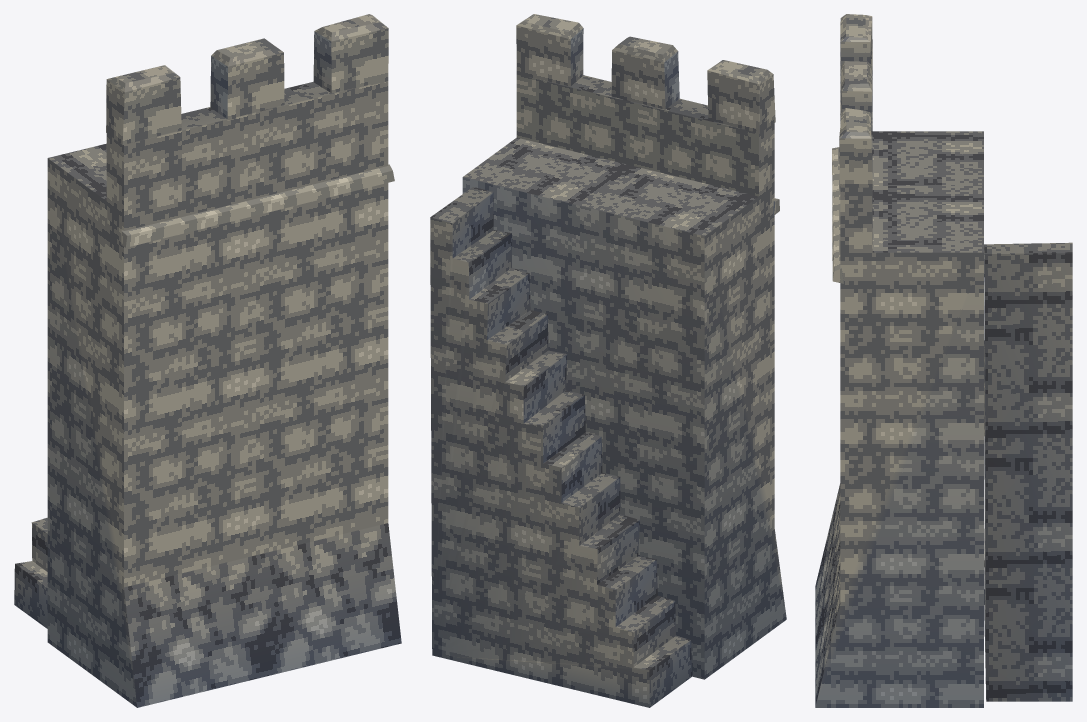
The model's file is cst.curtain__stair.glb.
3 renders of one model, left to right at view 1: azimuth 30°, elevation 25°; view 2: azimuth 150°, elevation 25°; view 3: azimuth 270°, elevation 25°, orthographic. The views are drawn at different scales.
Visible parts, largest first — view 1: kit_wall, kit_top, kit_detail; view 2: kit_wall, kit_detail, kit_top; view 3: kit_wall, kit_detail, kit_top.
Boxes of the visible parts, box(x1,y1,x2,y2) form: kit_wall: box(47, 81, 401, 707); kit_top: box(106, 14, 388, 144); kit_detail: box(14, 164, 394, 628); kit_wall: box(462, 74, 786, 679); kit_detail: box(430, 187, 779, 707); kit_top: box(516, 14, 775, 133); kit_wall: box(815, 68, 983, 707); kit_detail: box(832, 147, 1072, 701); kit_top: box(839, 14, 872, 187).
Size of the model in its own units: 4.07 by 8.85 by 3.59.
Materials: 4 (4 with a texture image).
